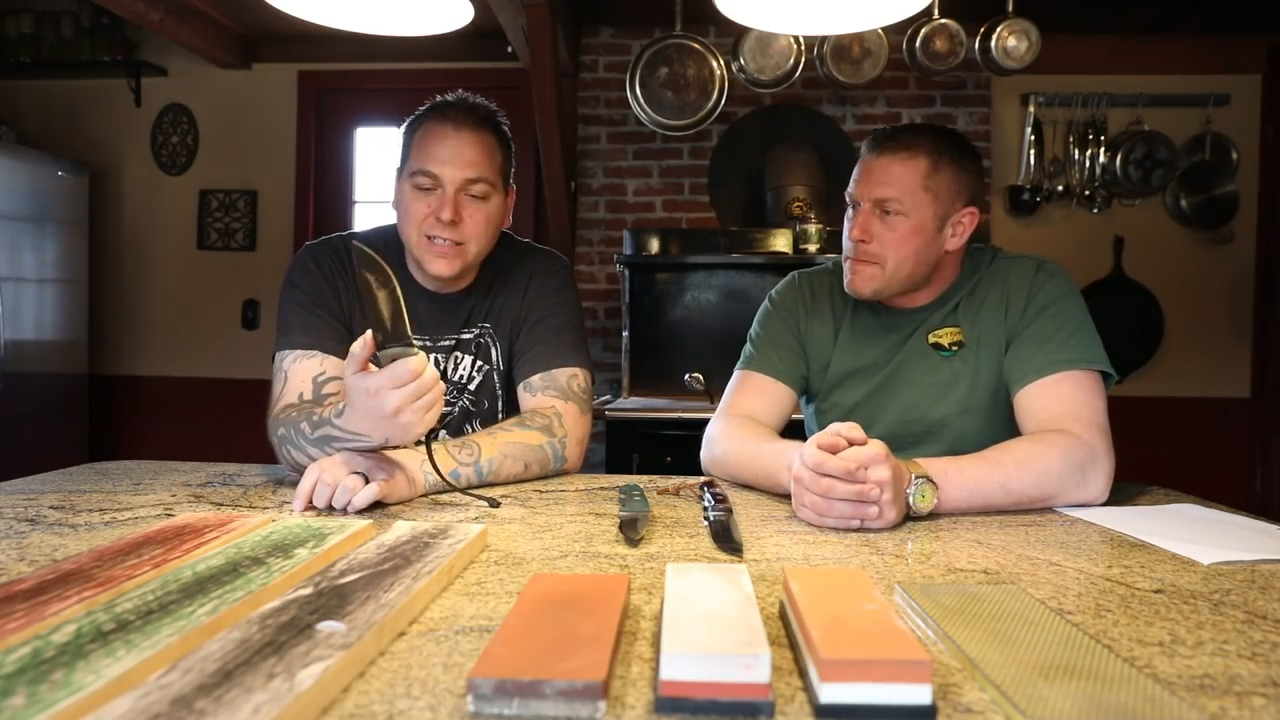knife: (336, 230, 462, 396)
